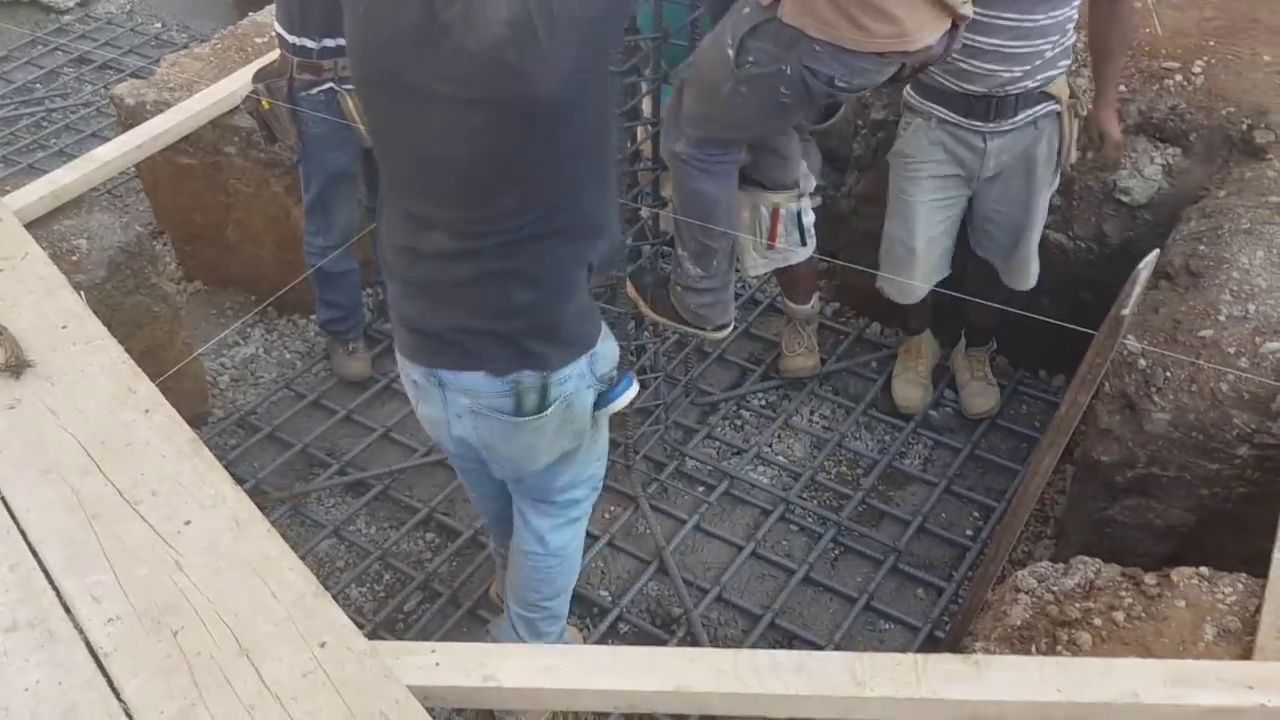person: (340, 2, 643, 648), (625, 0, 968, 376), (876, 2, 1143, 422), (271, 5, 380, 384)
